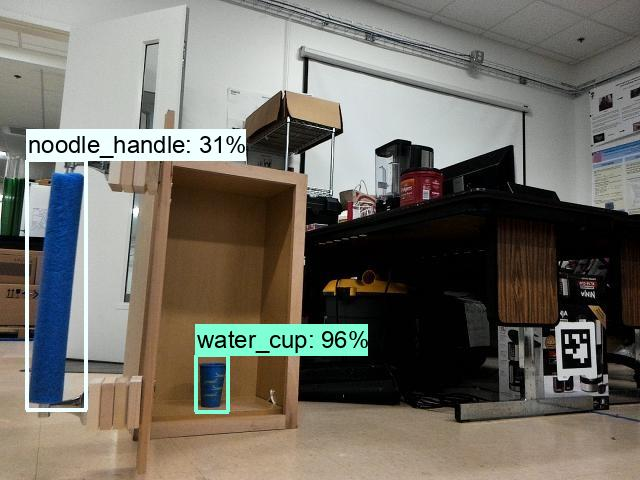noodle_handle: (29, 168, 85, 414)
water_cup: (196, 357, 227, 411)
